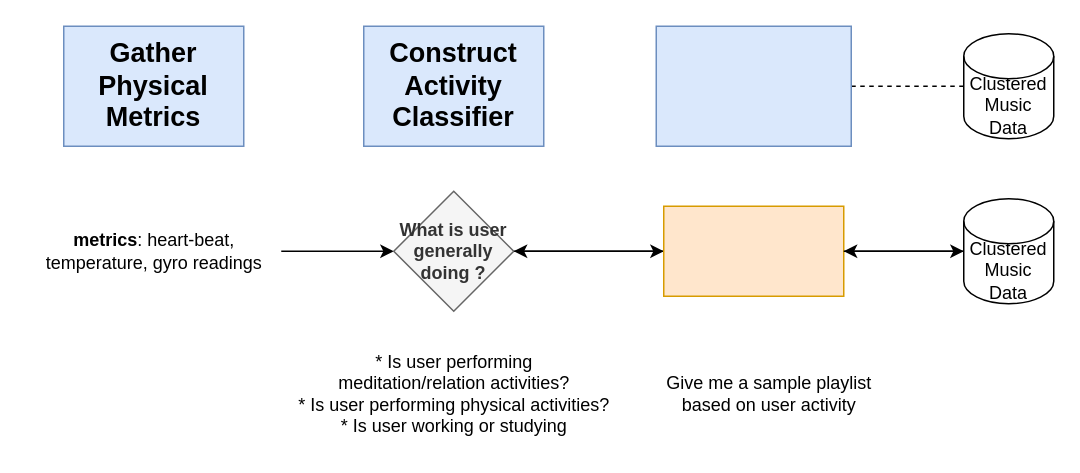
This 1080x473 diagram has some shape labels left out. Here are the shapes that lost their labels. From the top down, the centre of each, then its label:
At point 753,85: "Construct Music Recommender".
At point 753,250: "Request a sample playlist".
